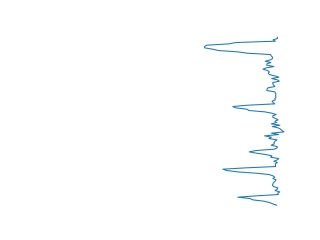distalBar: (201, 34, 283, 92)
interdistributaryEstuary: (230, 89, 285, 143)
underwaterNaturalLevee: (220, 143, 284, 208)
